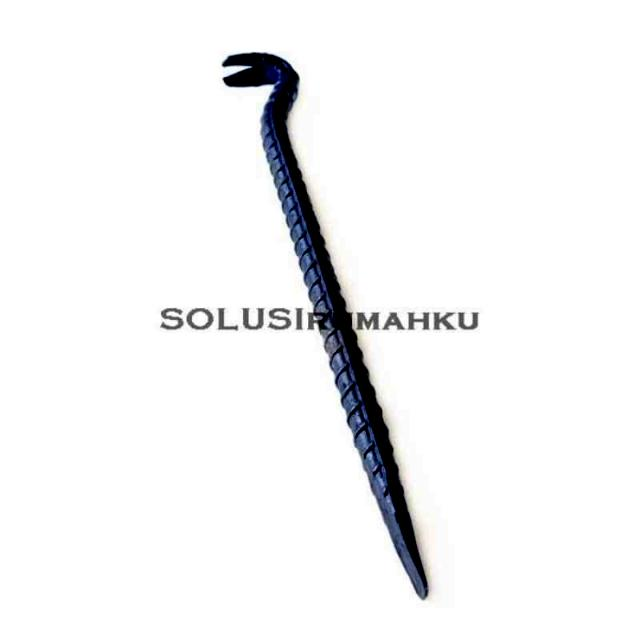crow bar: (220, 49, 431, 604)
